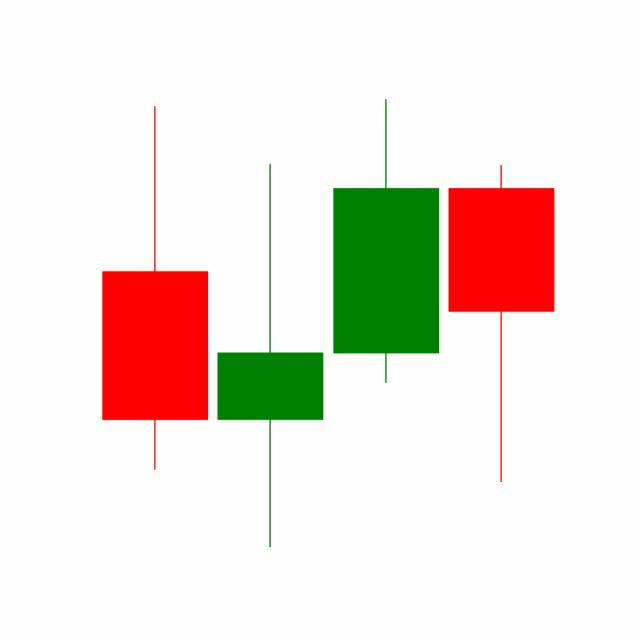Hammer: (443, 161, 559, 485)
